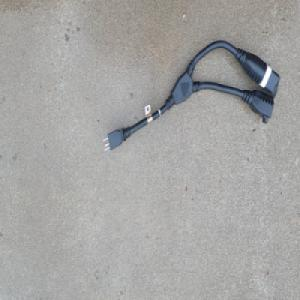Wire: (100, 38, 281, 155)
